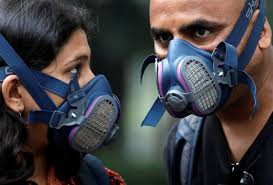mask: (0, 1, 122, 156), (149, 1, 265, 121)
